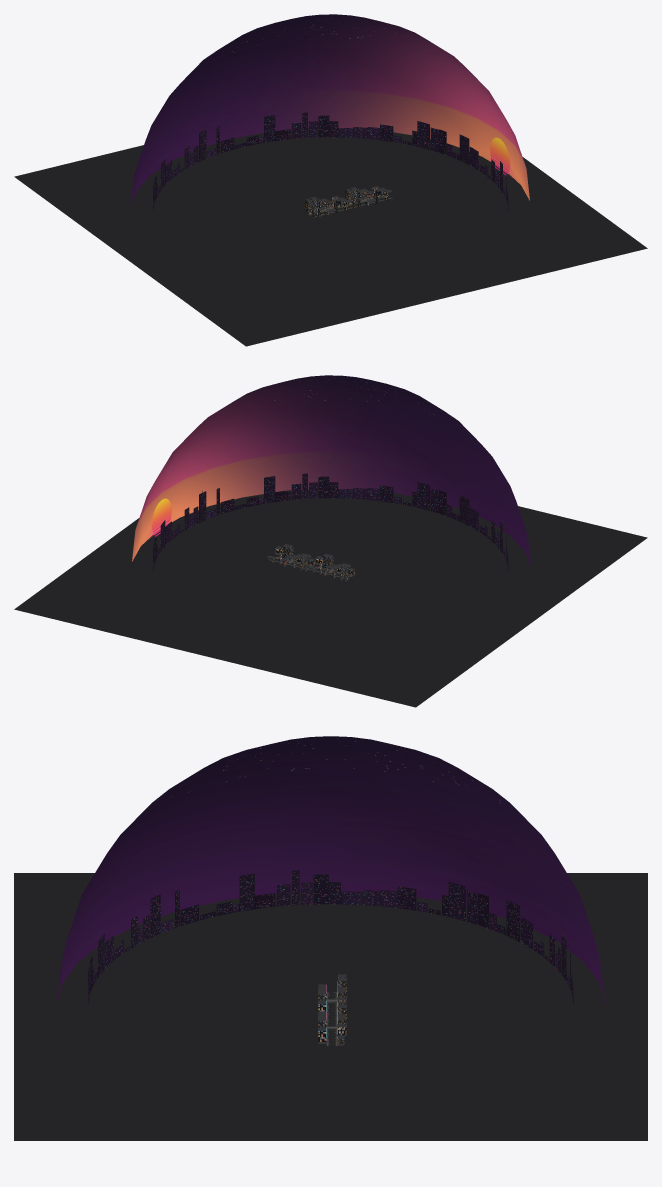
File: route.glb
3 views of the same model, one above another, from view 1: azimuth 30°, elevation 25°; view 2: azimuth 150°, elevation 25°; view 3: azimuth 270°, elevation 25° (orthographic). The views are drawn at different scales.
Parts seen in each view (by area): view 1: far, city, sun; view 2: far, city, sun; view 3: far, city.
Boxes of the visible parts, <box> form: far: <box>14,14,647,346</box>; city: <box>305,186,392,219</box>; sun: <box>490,137,513,177</box>; far: <box>14,375,647,707</box>; city: <box>267,544,354,581</box>; sun: <box>148,498,171,538</box>; far: <box>14,736,647,1140</box>; city: <box>318,974,346,1045</box>.
Size of the model in its own units: 1200 by 620 by 1200.
Materials: 31 (12 with a texture image).
